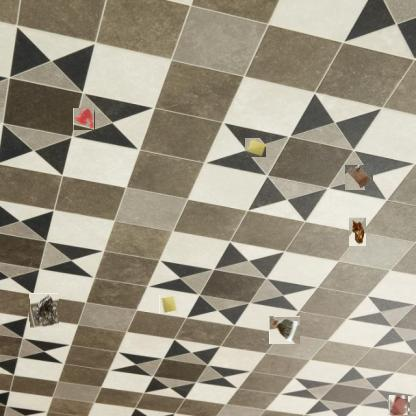dirty: (29, 293, 59, 328), (269, 316, 300, 344), (346, 164, 372, 190), (348, 217, 366, 246), (244, 137, 266, 157), (159, 295, 178, 314)
liquid: (73, 109, 95, 130), (389, 395, 409, 416)
